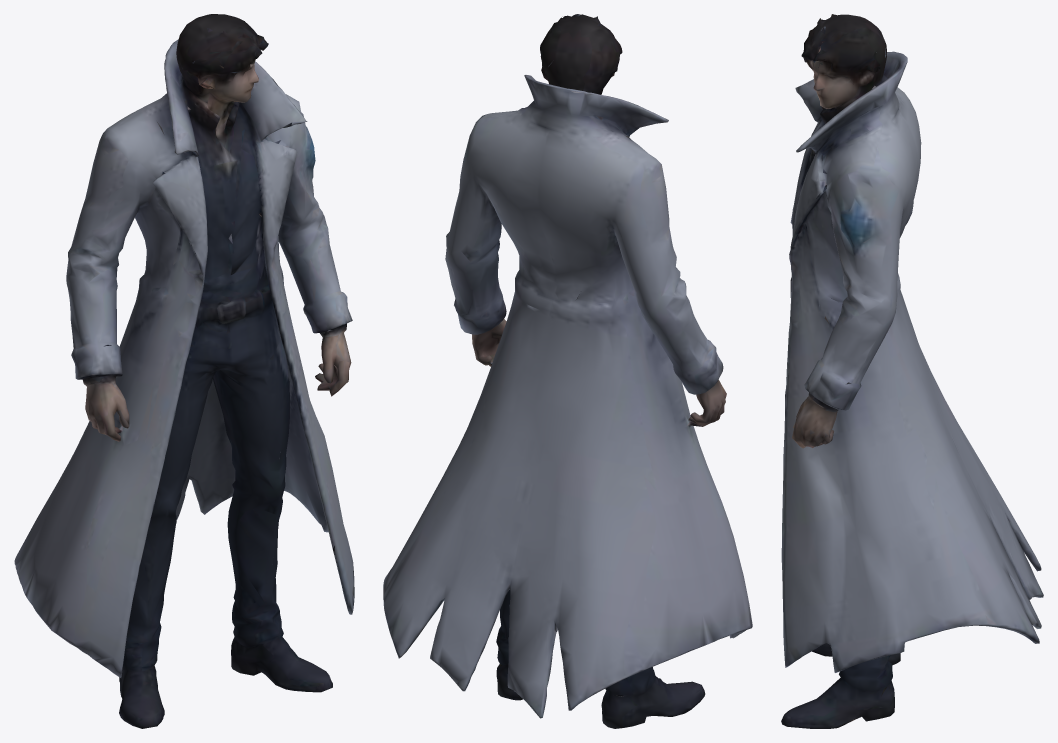
The model's file is cast_leader.glb.
The picture shows the model from 3 angles, left to right: view 1: azimuth 30°, elevation 25°; view 2: azimuth 150°, elevation 25°; view 3: azimuth 270°, elevation 25°; orthographic projection.
Visible parts, largest first — view 1: cast_leader; view 2: cast_leader; view 3: cast_leader.
Part boxes in pixels (x1,y1,x2,y2): cast_leader: [14, 14, 354, 728]; cast_leader: [383, 14, 752, 728]; cast_leader: [781, 14, 1043, 728].
Size of the model in its own units: 0.9044 by 1.85 by 0.656.
1 material, 1 textured.
